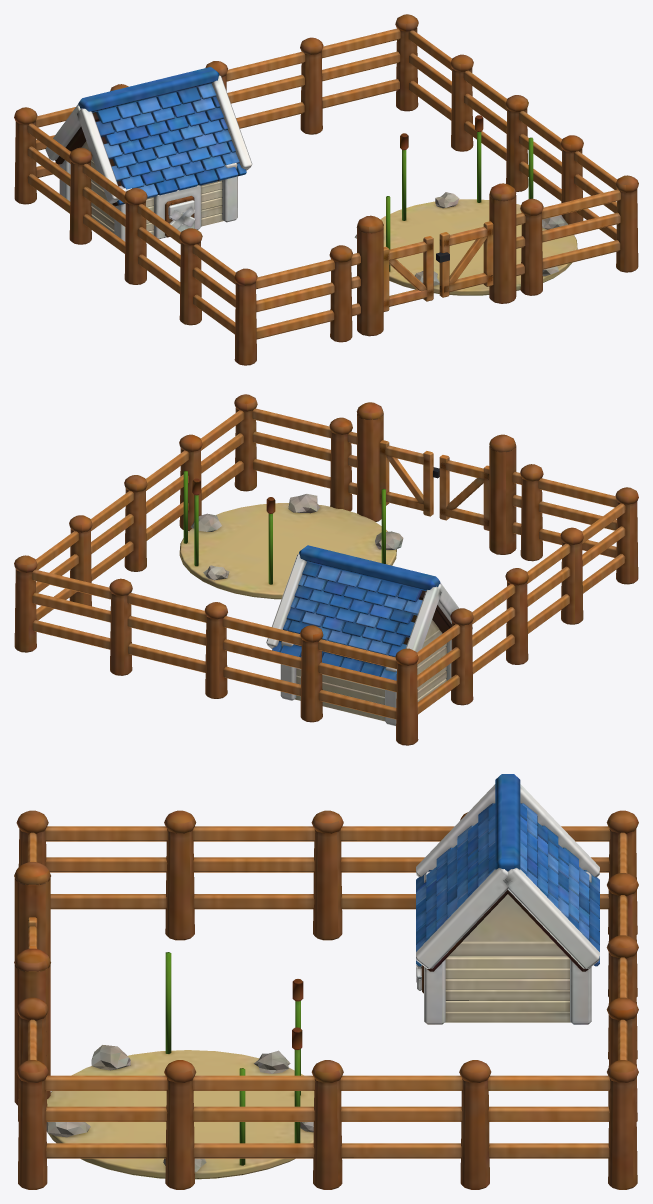
The model's file is goose_pen.glb.
3 views of the same model, one above another, from view 1: azimuth 30°, elevation 25°; view 2: azimuth 150°, elevation 25°; view 3: azimuth 270°, elevation 25° (orthographic). The views are drawn at different scales.
Parts seen in each view (by area): view 1: goose_pen, gate1, gate0; view 2: goose_pen, gate1, gate0; view 3: goose_pen.
Boxes of the visible parts, left/top/right/bottom form: goose_pen: left=14, top=14, right=638, bottom=365; gate1: left=436, top=221, right=493, bottom=297; gate0: left=383, top=236, right=433, bottom=311; goose_pen: left=14, top=394, right=638, bottom=745; gate1: left=379, top=440, right=439, bottom=516; gate0: left=439, top=455, right=489, bottom=530; goose_pen: left=14, top=774, right=638, bottom=1189.
Size of the model in its own units: 2 by 0.615 by 2.01.
Materials: 1 (1 with a texture image).
